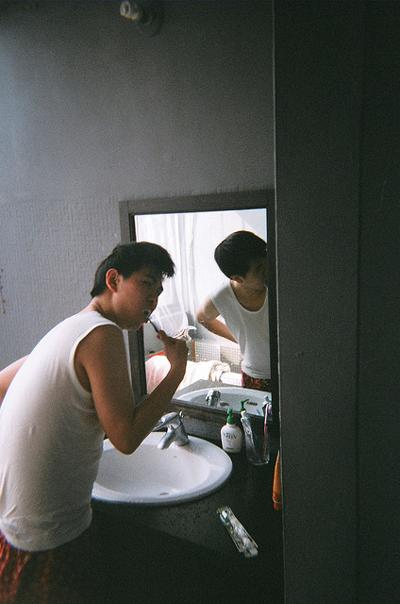person: (2, 242, 189, 604)
